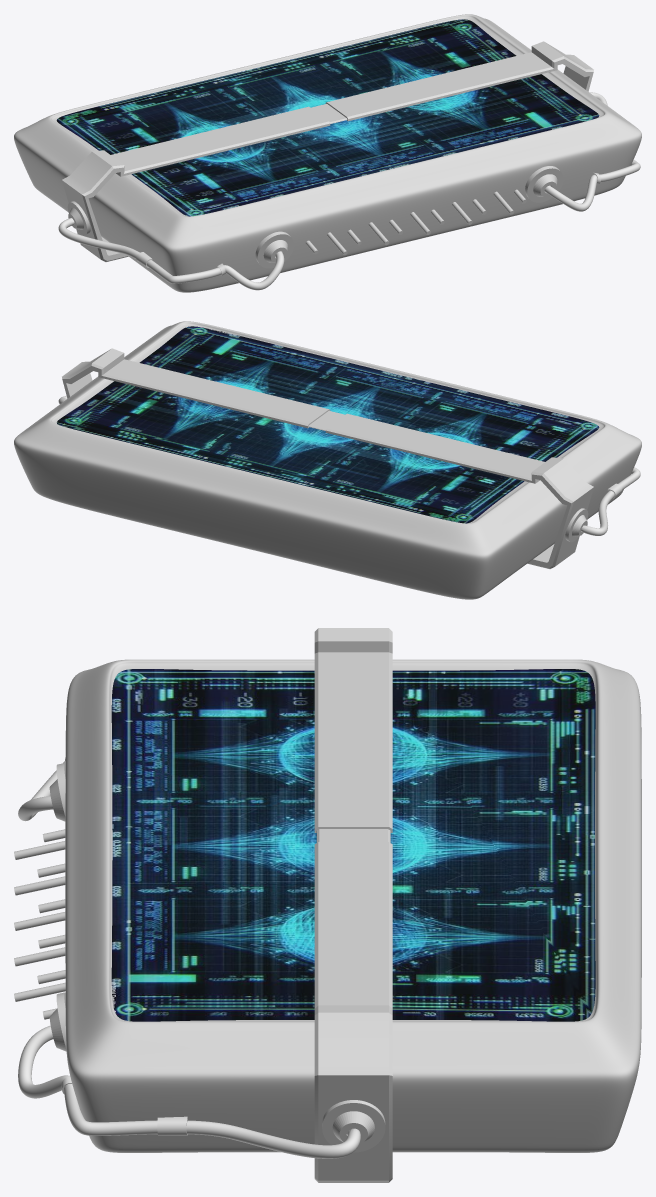
Rendered from chronores.fbx.
3 renders of one model, top to bottom at view 1: azimuth 30°, elevation 25°; view 2: azimuth 150°, elevation 25°; view 3: azimuth 270°, elevation 25°, orthographic. The views are drawn at different scales.
Visible parts, largest first — view 1: Object003, Box001, Object001, Line001, Line003, Cylinder027, Cylinder012, Cylinder013; view 2: Box001, Object003, Object001, Line001, Cylinder013; view 3: Object003, Box001, Object001, Line003, Cylinder028, Object002, Line001.
Boxes of the visible parts, x1,y1,x2,y2 form: Object003: (56,19,599,216); Box001: (14,14,641,292); Object001: (62,41,593,261); Line001: (58,218,284,290); Line003: (544,92,640,211); Cylinder027: (525,166,563,202); Cylinder012: (255,231,293,268); Cylinder013: (67,201,90,235); Box001: (14,321,641,599); Object003: (56,326,599,523); Object001: (62,348,593,568); Line001: (581,467,640,535); Cylinder013: (565,508,588,542); Object003: (111,669,595,1021); Box001: (65,659,641,1152); Object001: (314,628,392,1182); Line003: (18,1025,360,1158); Cylinder028: (322,1100,385,1152); Object002: (316,829,390,842); Line001: (18,757,65,821).
Bounding box in the file's own units: 112 × 18.49 × 63.88.
